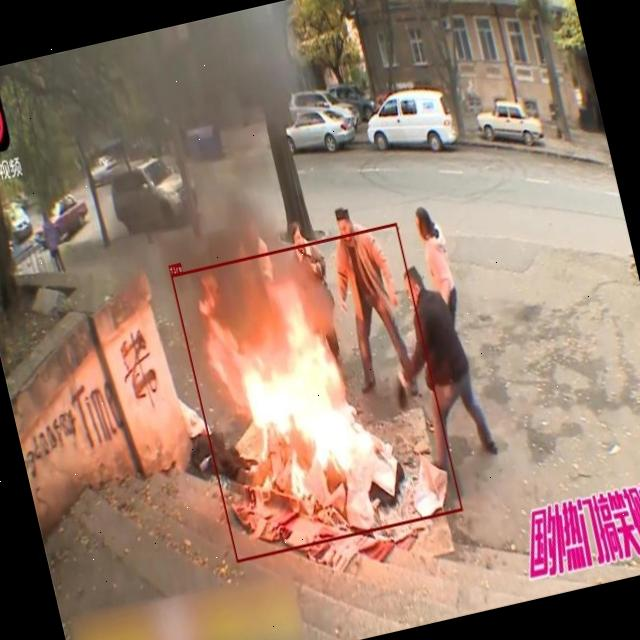fire: (170, 221, 462, 562)
